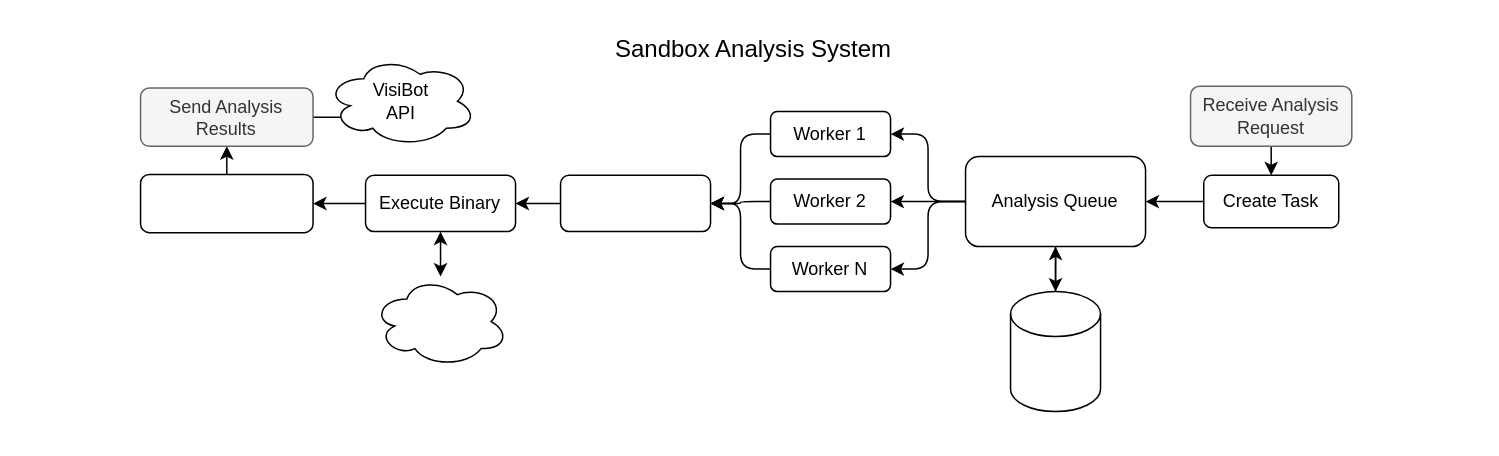
Some shapes in this 1499 by 456 pixel diagram are drawn without their labels. The centre of each missing label's shape, as x and y in pixels:
"Dynamic/Netowrk Analysis" belongs at point 226,203.
"QEMU VM" belongs at point 440,321.
"Sandbox Broker DB" belongs at point 1055,351.
"Static Analysis" belongs at point 635,203.
